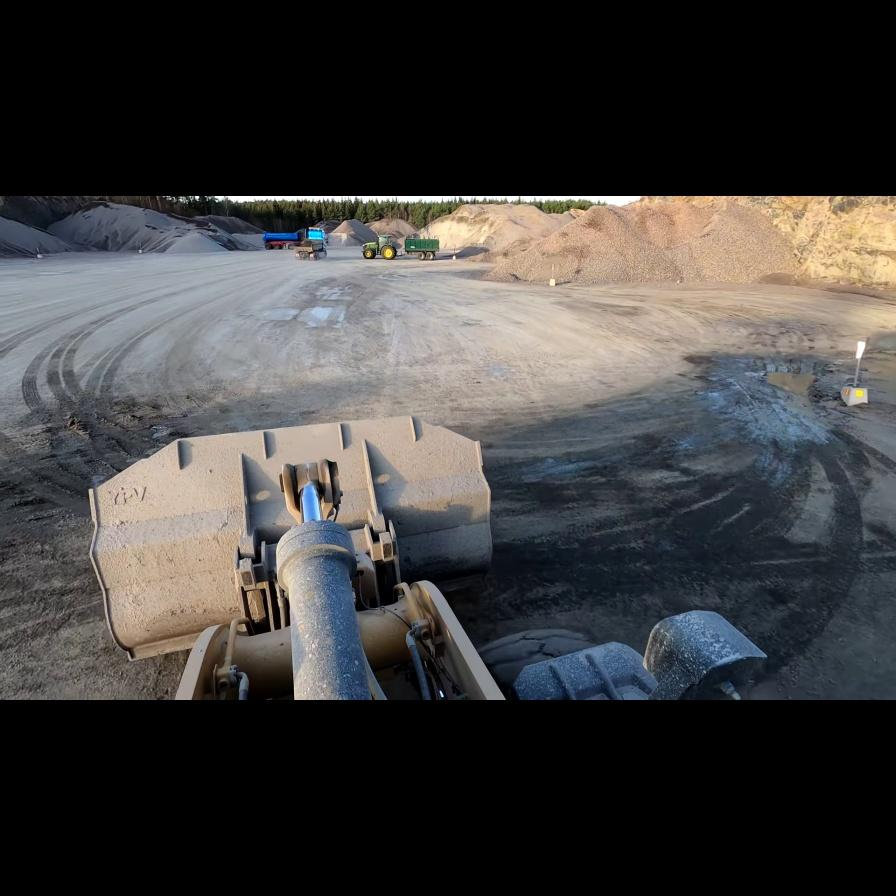anchor: (279, 459, 344, 531)
pile of gravel: (487, 196, 816, 285), (42, 200, 262, 254), (424, 204, 588, 260), (0, 209, 78, 258), (322, 219, 384, 246), (362, 218, 417, 239)
